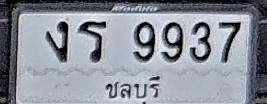3: (190, 21, 211, 62)
7: (218, 21, 240, 62)
9: (134, 21, 154, 61), (162, 22, 182, 62)
A07: (46, 20, 68, 62)
A35: (78, 21, 107, 62)
CBI: (102, 72, 163, 104)
